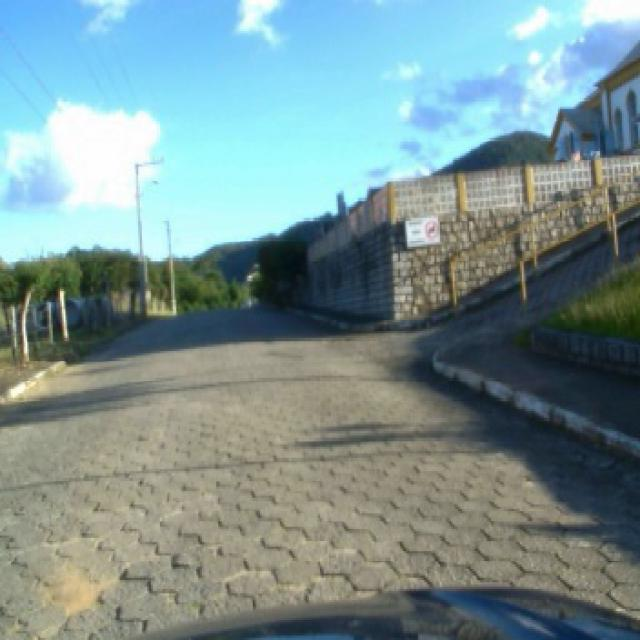Poth-hole: (29, 560, 113, 624)
